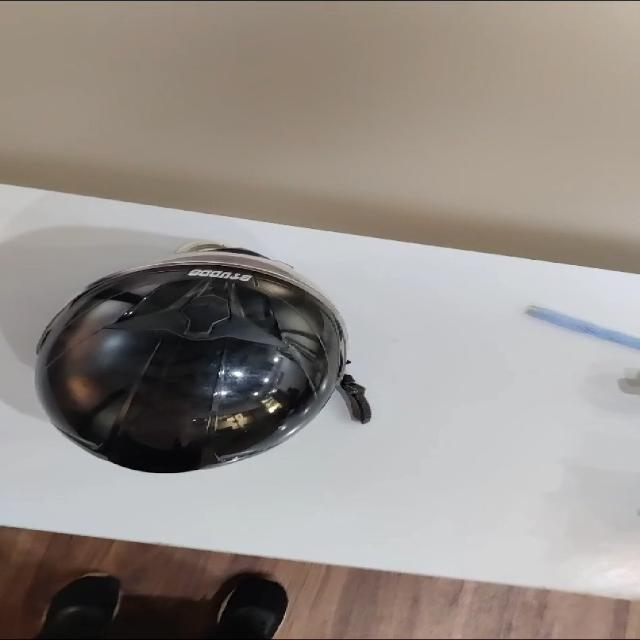helmet: (33, 238, 344, 479)
